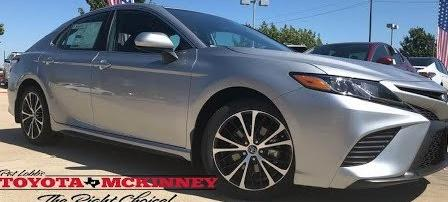Cars: (9, 6, 448, 197)
